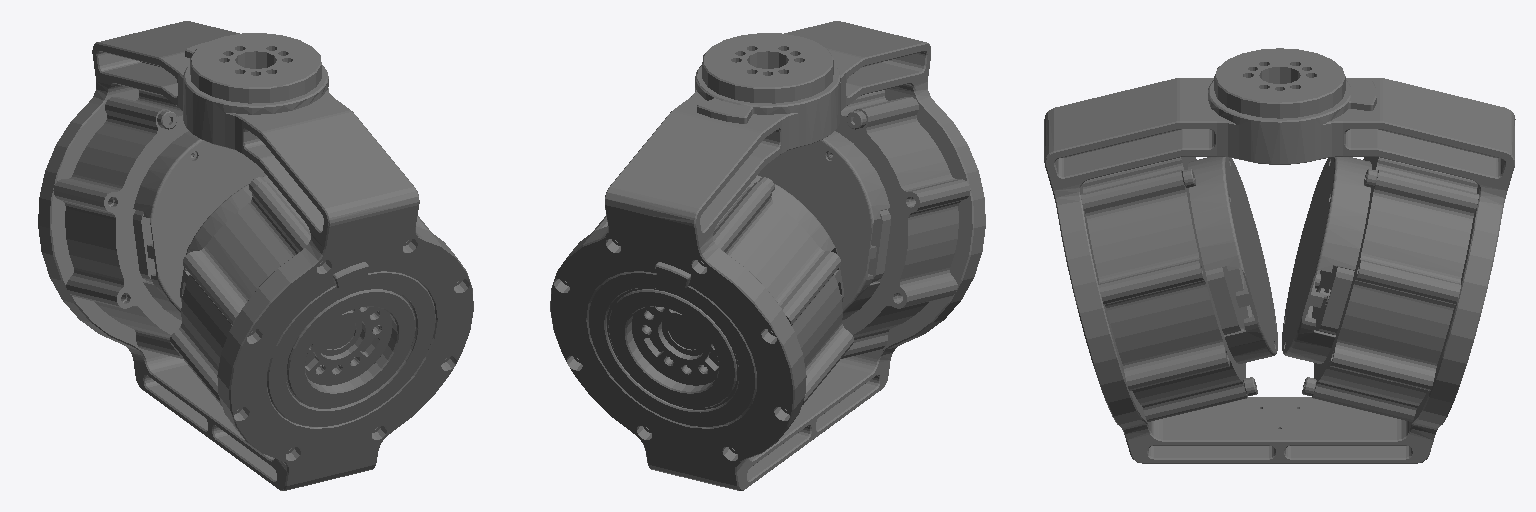
robot.urdf — Y1_1:
<?xml version="1.0"?>
<robot name="Y1_1">

  <link name="waist_link">
    <visual>
      <origin xyz="0.0000 0.0000 0.0000" rpy="0.0000 0.0000 0.0000" />
      <geometry>
        <mesh filename="../meshes/waist_link.STL" />
      </geometry>
      <material name="waist_link_mat">
        <color rgba="0.5 0.5 0.5 1.0"/>
      </material>
    </visual>
    <collision>
      <origin xyz="0.0000 0.0000 0.0600" rpy="0.0000 0.0000 0.0000" />
      <geometry>
        <sphere radius="0.0600" />
      </geometry>
    </collision>
    <inertial>
      <origin xyz="0.0013 0.0000 0.0572" rpy="0.0000 0.0000 0.0000" />
      <mass value="1.44414585717254" />
      <inertia ixx="0.0040" ixy="0.0000" ixz="0.0000" iyy="0.0029" iyz="0.0000" izz="0.0027" />
    </inertial>
  </link>

  <link name="waist_yaw_Link">
    <visual>
      <origin xyz="0.0000 0.0000 0.0000" rpy="0.0000 0.0000 0.0000" />
      <geometry>
        <mesh filename="../meshes/waist_yaw_Link.STL" />
      </geometry>
      <material name="waist_yaw_Link_mat">
        <color rgba="0.5 0.5 0.5 1.0"/>
      </material>
    </visual>
    <collision>
      <origin xyz="0.0000 0.0000 0.1500" rpy="0.0000 0.0000 0.0000" />
      <geometry>
        <box size="0.0600 0.1500 0.3000" />
      </geometry>
    </collision>
    <inertial>
      <origin xyz="-0.0048 -0.0001 0.1411" rpy="0.0000 0.0000 0.0000" />
      <mass value="0.000" />
      <inertia ixx="0.000" ixy="0.0000" ixz="0.0000" iyy="0.0000" iyz="0.0000" izz="0.0000" />
    </inertial>
  </link>

  <joint name="waist_yaw_joint" type="revolute">
    <parent link="waist_link" />
    <child link="waist_yaw_Link" />
    <origin xyz="0.0014 0.0000 0.1350" rpy="0.0000 0.0000 0.0000" />
    <axis xyz="0.0000 0.0000 1.0000" />
    <limit lower="-2.5307274153917776" upper="2.5307274153917776" effort="36.0" velocity="10" />
    <hardware>
      <motorType>None</motorType>
      <motorDirection>1</motorDirection>
      <armature>0</armature>
    </hardware>
  </joint>


</robot>

--- Render facts (derived) ---
The picture shows the robot from 3 angles, left to right: view 1: azimuth 30°, elevation 25°; view 2: azimuth 150°, elevation 25°; view 3: azimuth 270°, elevation 25°; orthographic projection.
Model Y1_1 with 2 links and 1 joints (1 revolute), rooted at waist_link, posed every joint at zero.
Links seen in each view (by area): view 1: waist_link; view 2: waist_link; view 3: waist_link.
Boxes of the visible links, left/top/right/bottom form: waist_link: left=38, top=21, right=473, bottom=490; waist_link: left=550, top=21, right=985, bottom=490; waist_link: left=1044, top=48, right=1515, bottom=463.
Bounding box of the posed robot: 0.1055 × 0.1793 × 0.154 m (x, y, z).
1 mesh visuals loaded from 2 distinct referenced files (1 binary STL); not drawn: 1 (reference not matched to a file when rendering).
